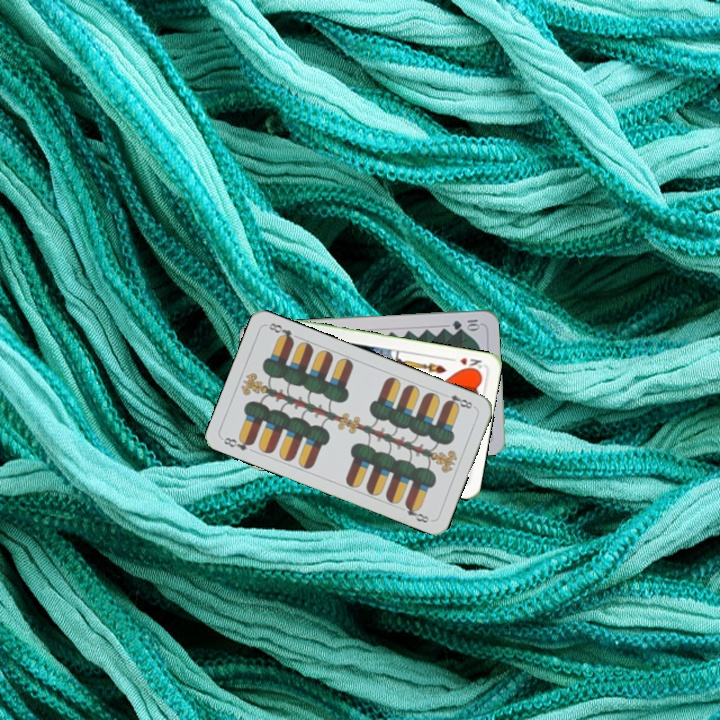E8: (439, 389, 478, 412), (219, 433, 257, 453)
G10: (448, 315, 483, 332)
HK: (445, 353, 484, 370)
